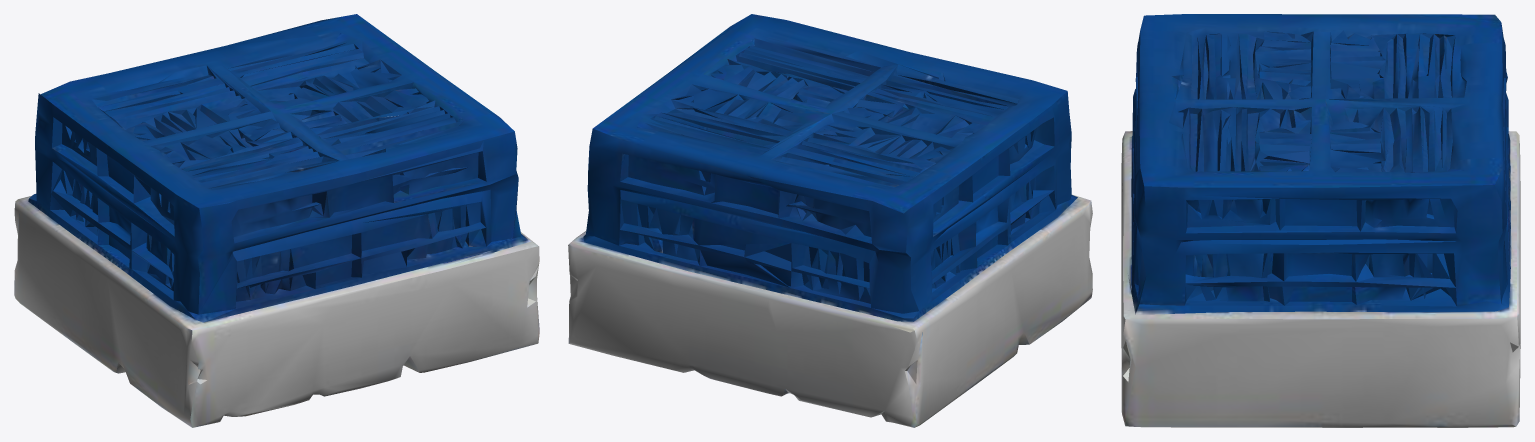
The model's file is fishcrates.glb.
3 views of the same model, side by side, from view 1: azimuth 30°, elevation 25°; view 2: azimuth 150°, elevation 25°; view 3: azimuth 270°, elevation 25° (orthographic). The views are drawn at different scales.
Parts seen in each view (by area): view 1: fishcrates; view 2: fishcrates; view 3: fishcrates.
Boxes of the visible parts, left/top/right/bottom form: fishcrates: left=14, top=14, right=539, bottom=427; fishcrates: left=568, top=14, right=1092, bottom=427; fishcrates: left=1121, top=14, right=1520, bottom=427.
Bounding box in the file's own units: 1.63 × 0.95 × 1.45.
Materials: 1 (1 with a texture image).
